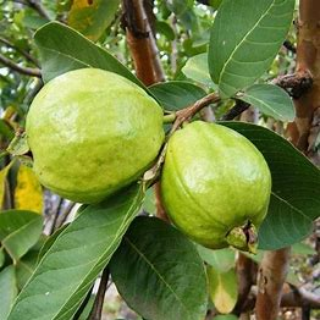oi: (17, 71, 164, 206), (164, 121, 277, 260)
